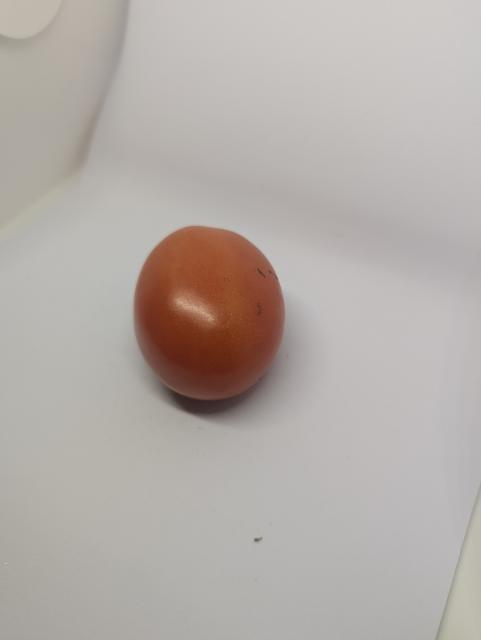red: (126, 223, 316, 421)
